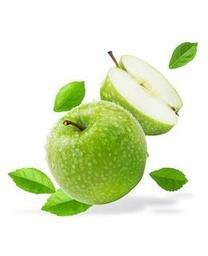apple: (46, 100, 147, 205), (102, 50, 183, 137)
